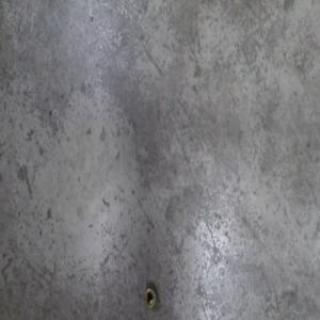Nuttrack_idkeyframe: (142, 285, 156, 310)
